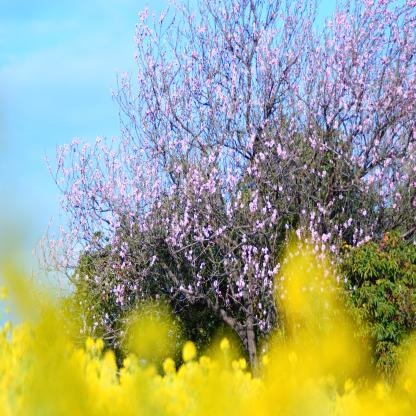Momo: (21, 1, 416, 332)
